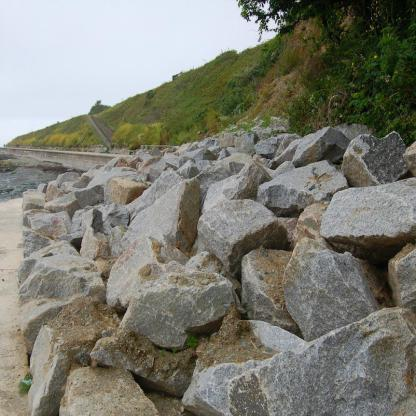Igneous_Granite: (223, 304, 415, 415), (280, 227, 381, 336), (109, 166, 194, 288), (198, 189, 282, 272), (314, 182, 415, 241), (58, 360, 163, 415), (256, 156, 344, 209), (18, 318, 64, 416), (272, 124, 353, 171)
